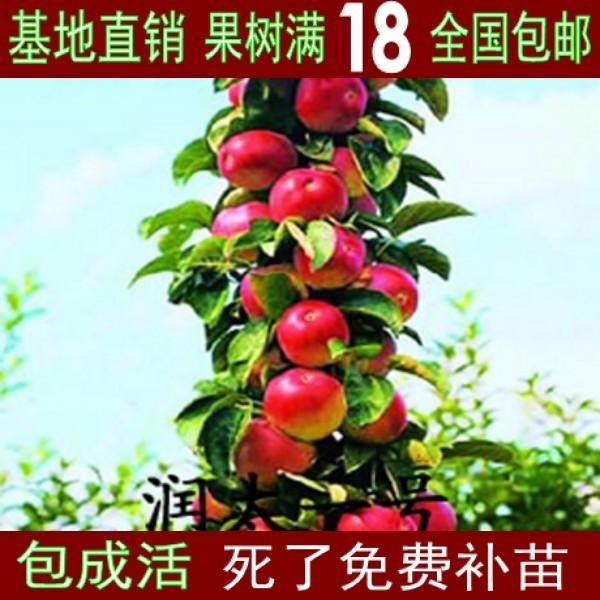apple: (263, 368, 346, 439), (235, 420, 316, 487), (277, 300, 350, 367), (218, 128, 295, 191), (292, 227, 362, 292), (270, 170, 347, 223), (296, 78, 367, 132)
